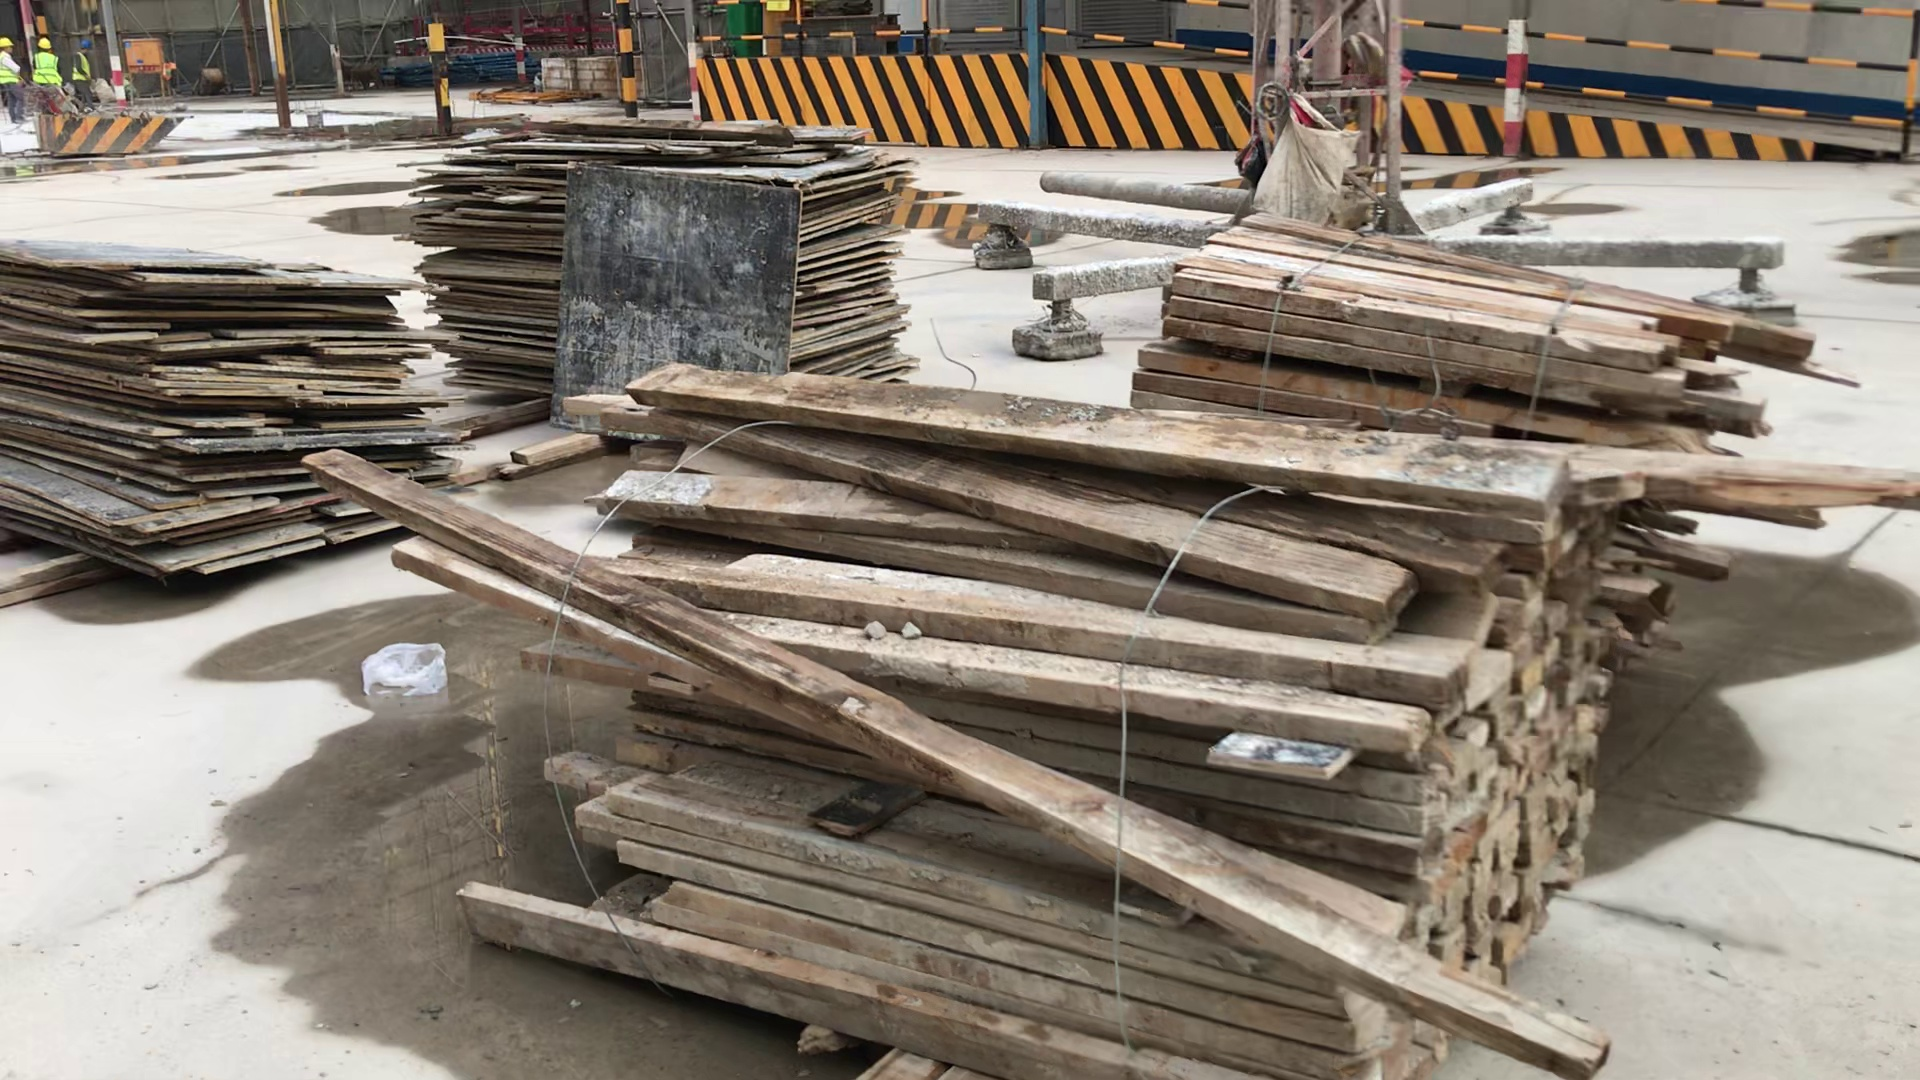board: (1, 235, 438, 576), (409, 115, 905, 403)
helmet: (38, 37, 52, 51), (1, 35, 15, 45)
person: (1, 36, 22, 124), (72, 39, 97, 110), (31, 37, 64, 86)
wood: (473, 364, 1919, 1076), (1132, 216, 1815, 469)
